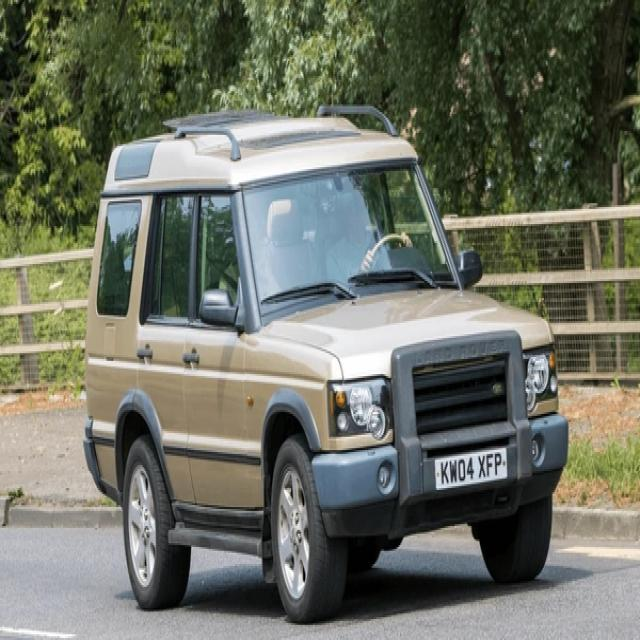landrover: (409, 336, 506, 371)
